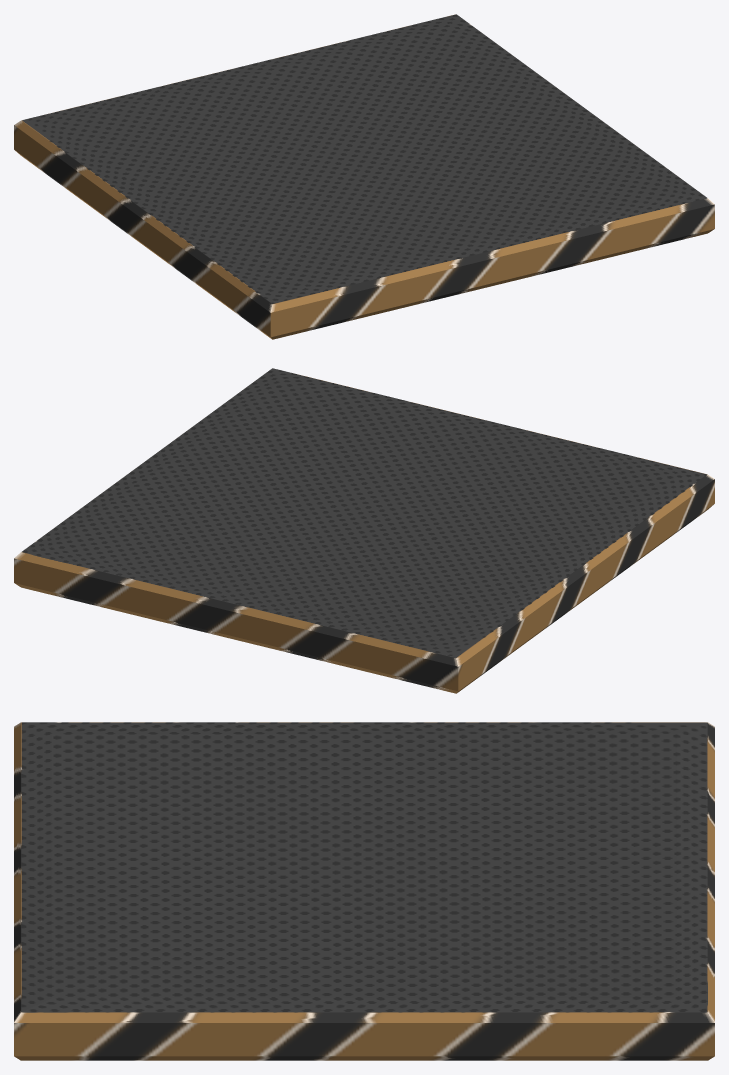
The model's file is Platform 2.fbx.
The picture shows the model from 3 angles, top to bottom: view 1: azimuth 30°, elevation 25°; view 2: azimuth 150°, elevation 25°; view 3: azimuth 270°, elevation 25°; orthographic projection. The views are drawn at different scales.
Parts seen in each view (by area): view 1: Cube.002; view 2: Cube.002; view 3: Cube.002.
Boxes of the visible parts, x1,y1,x2,y2 form: Cube.002: (14,14,714,339); Cube.002: (14,368,714,693); Cube.002: (14,722,714,1060).
Bounding box in the file's own units: 394 × 31.08 × 394.
